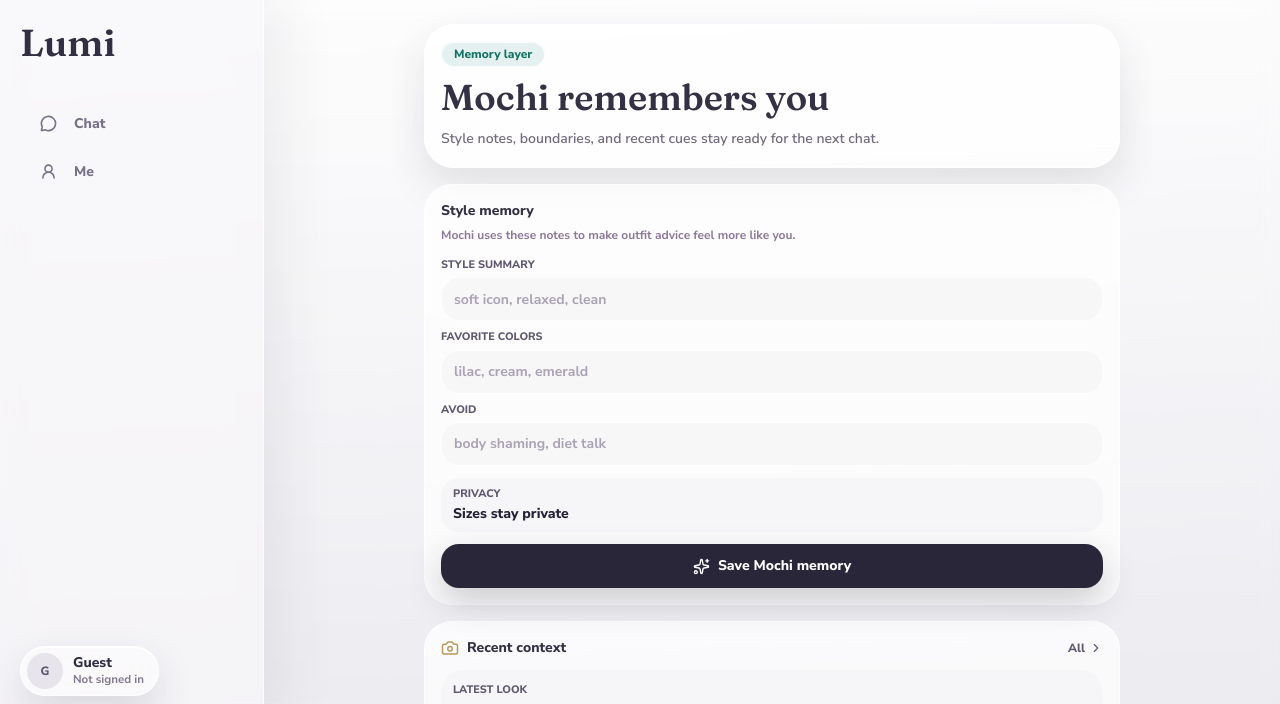
MemoryView › shows editable style memory and saves normalized fields
The width and height of the screenshot is (1280, 704).
In the field labelled "Style summary": [772, 299] box [441, 277, 1103, 321], type "clean casual"
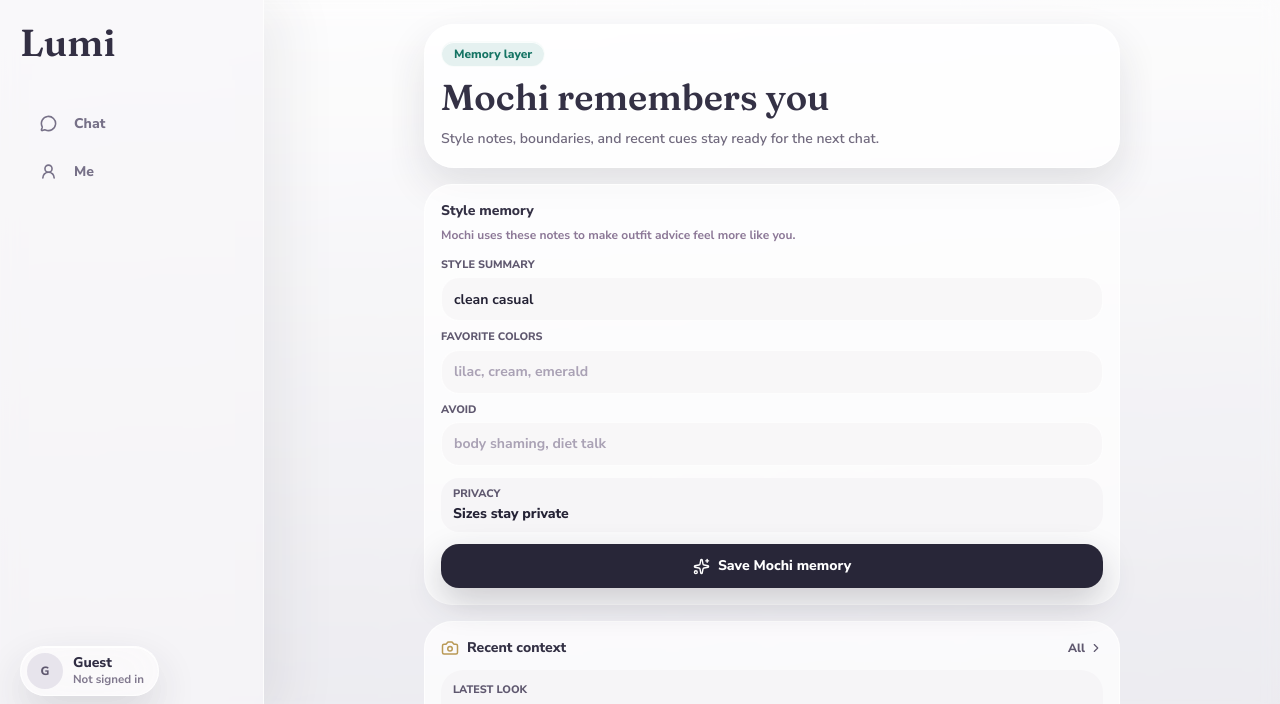
In the field labelled "Favorite colors": [772, 372] box [441, 350, 1103, 394], type "black, white"
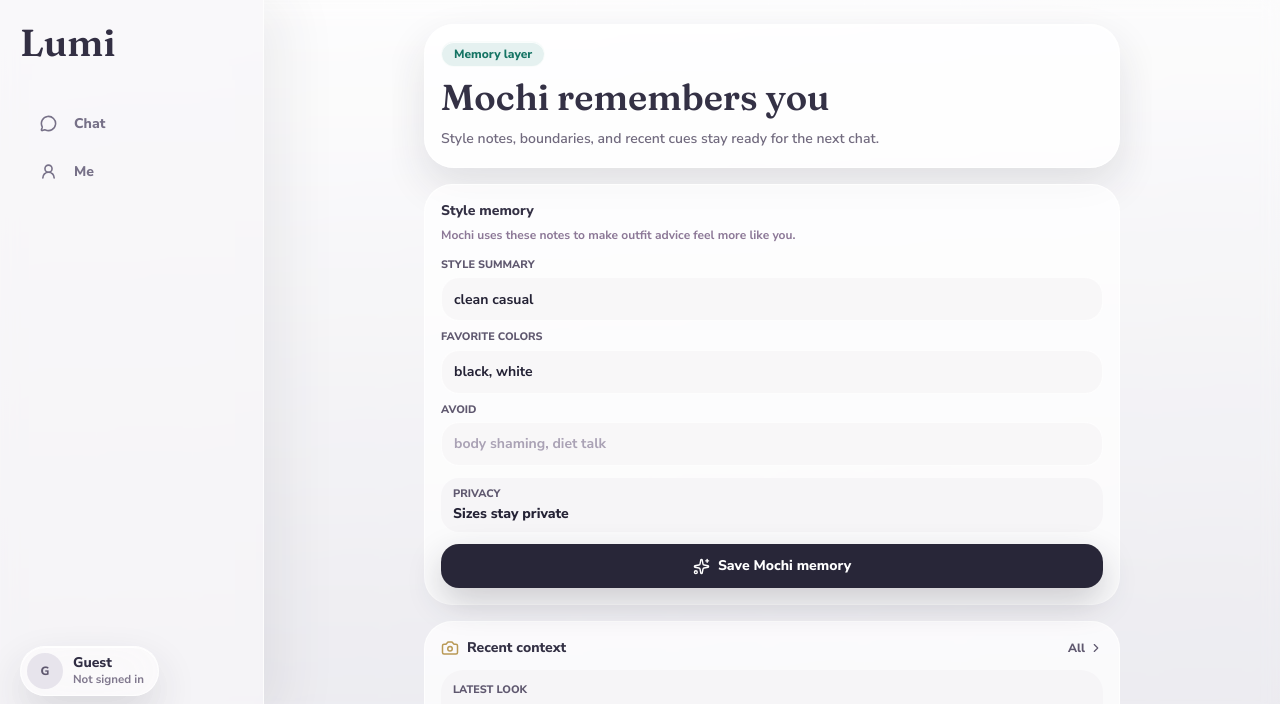
In the field labelled "Avoid": [772, 444] box [441, 422, 1103, 466], type "neon, logos"
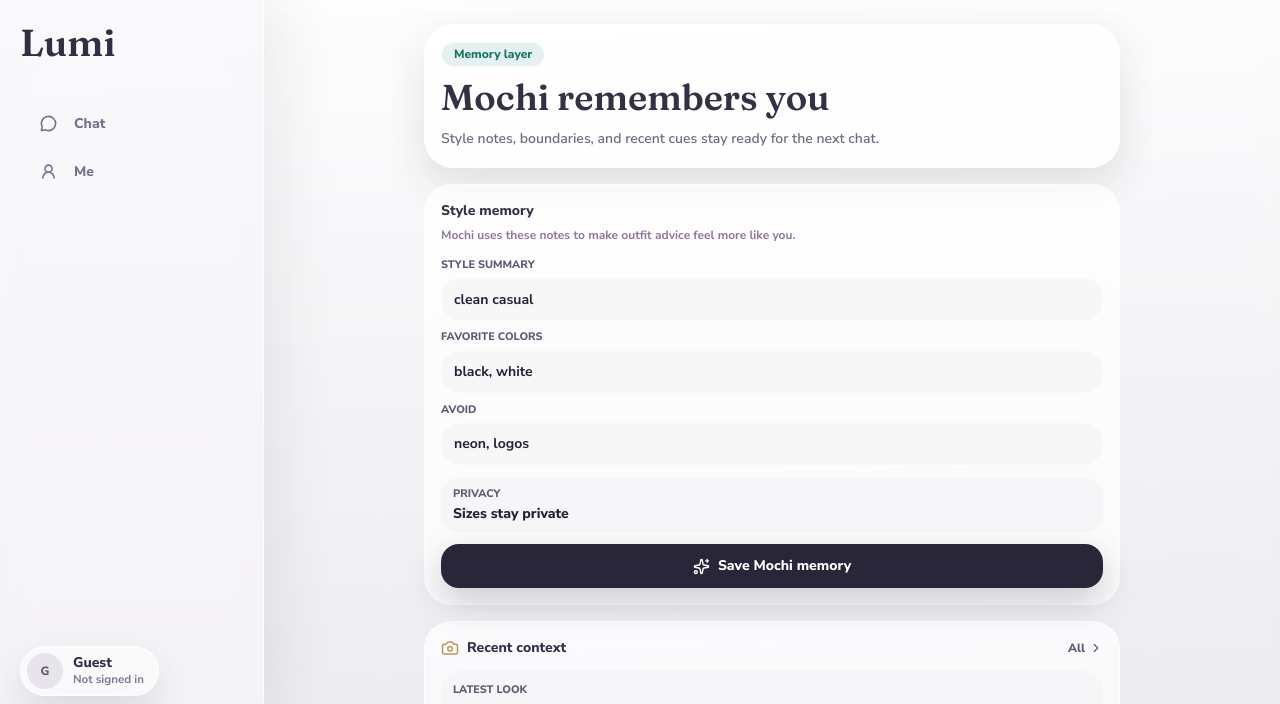
Click the button "Save Mochi memory": [772, 566] box [441, 544, 1103, 588]
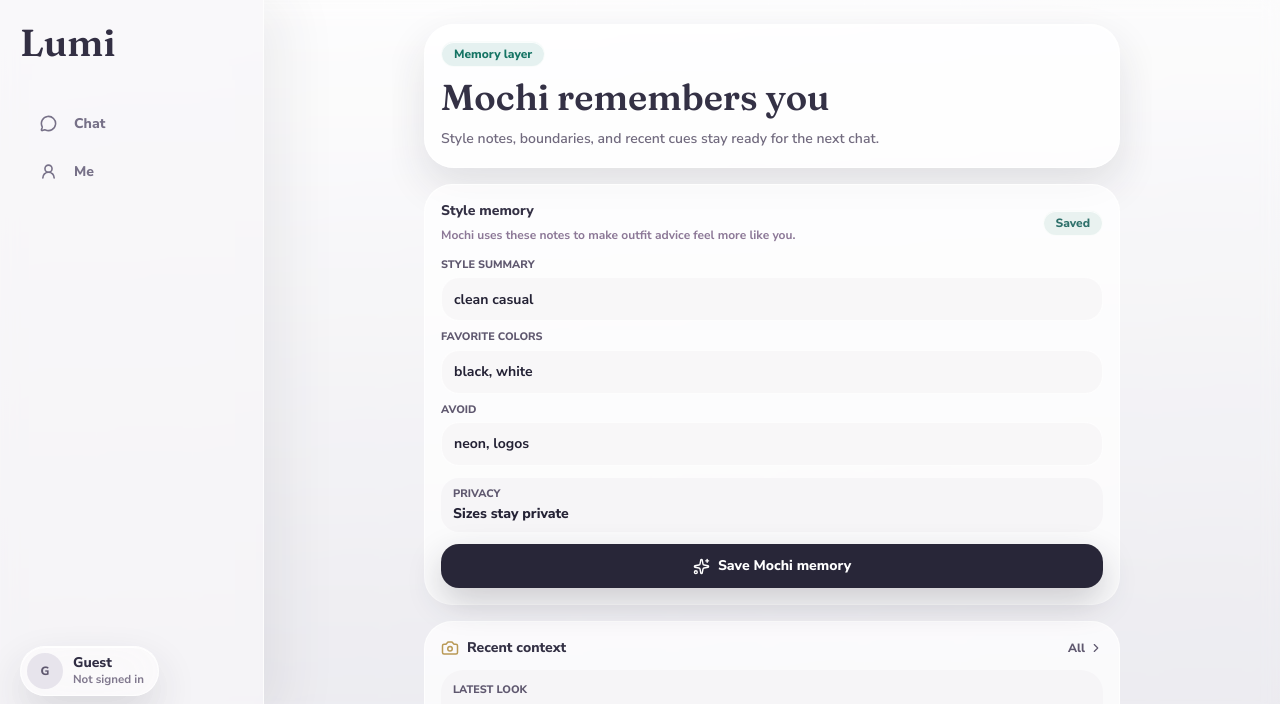
Now the text "Saved" is shown, box [1042, 210, 1103, 236]
